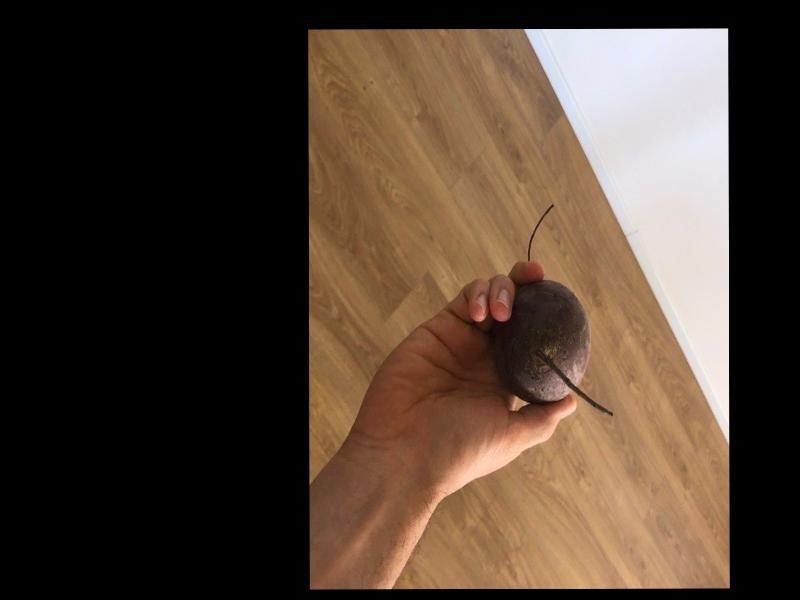Beet: (492, 203, 612, 415)
